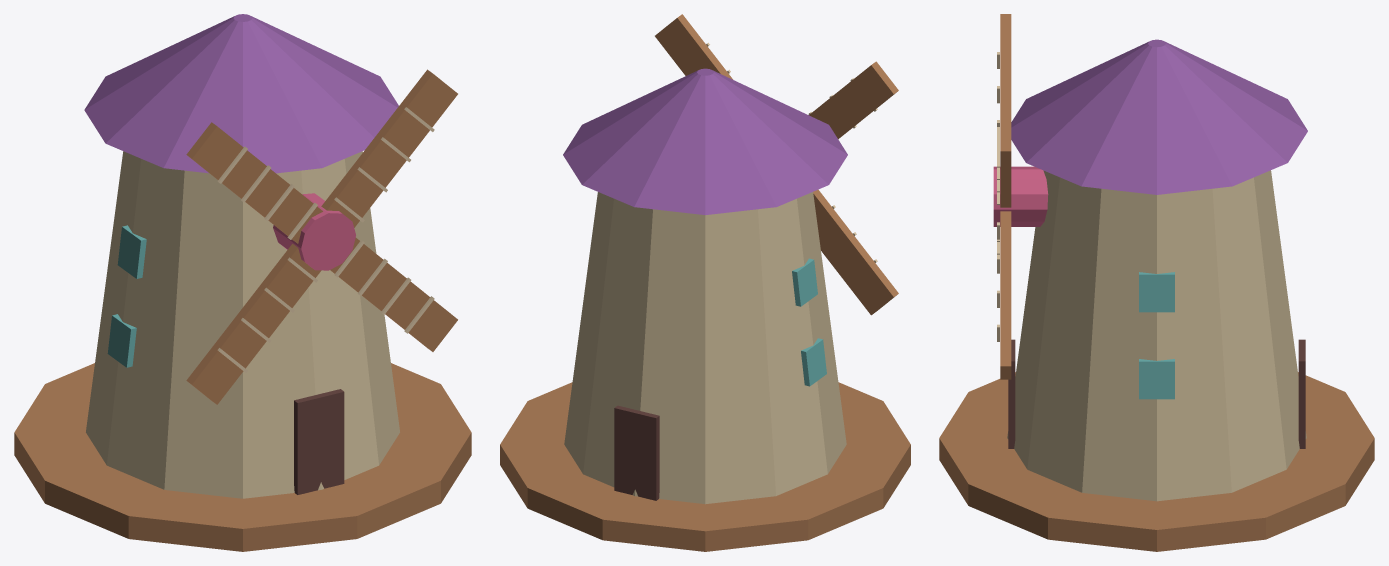
Rendered from Candyland_SugarWindmillLandmark_Standard.glb.
The picture shows the model from 3 angles, left to right: view 1: azimuth 30°, elevation 25°; view 2: azimuth 150°, elevation 25°; view 3: azimuth 270°, elevation 25°; orthographic projection. The views are drawn at different scales.
Visible parts, largest first — view 1: Candyland_SugarWindmillLandmark_Standard; view 2: Candyland_SugarWindmillLandmark_Standard; view 3: Candyland_SugarWindmillLandmark_Standard.
Boxes of the visible parts, bbox=[...] form: Candyland_SugarWindmillLandmark_Standard: bbox=[14, 14, 471, 551]; Candyland_SugarWindmillLandmark_Standard: bbox=[500, 14, 910, 551]; Candyland_SugarWindmillLandmark_Standard: bbox=[939, 14, 1374, 551].
Bounding box in the file's own units: 7.2 × 7.6 × 7.2.
